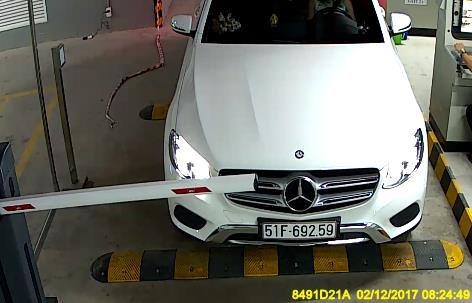plate: (260, 218, 342, 242)
